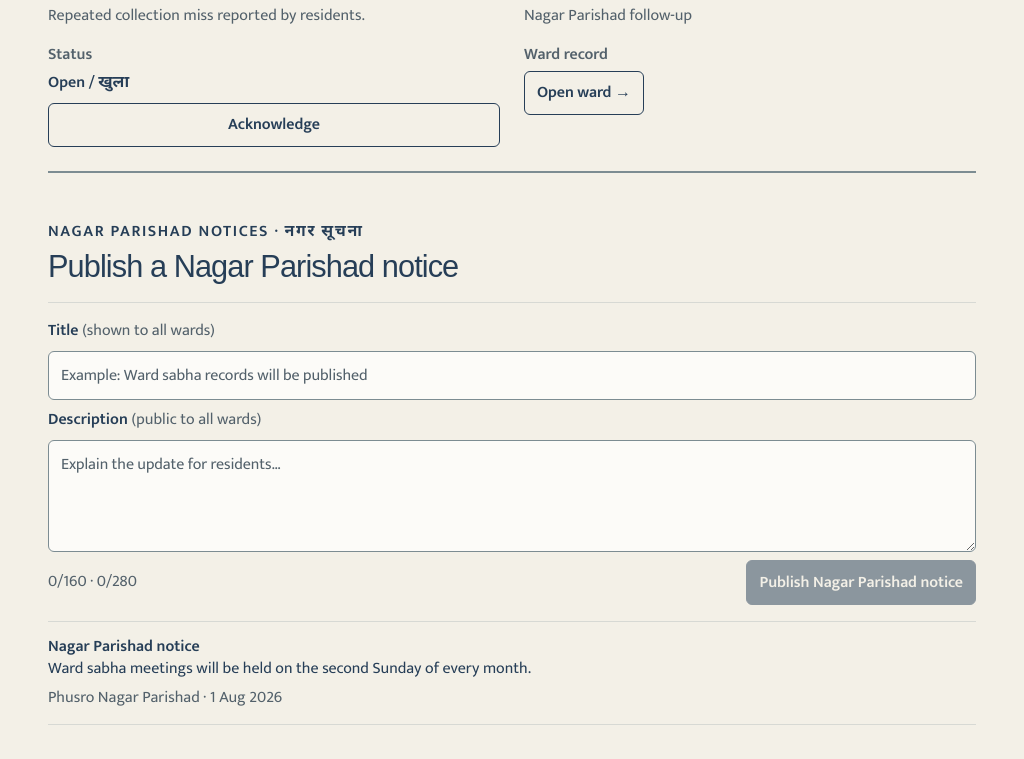
Test: corporation notice publication › preserves the draft and supports retry after a failed result
(page scrolled)
Type "Road maintenance" into the field labelled "Title (shown to all wards)" at (512, 375), box [48,351,976,400]
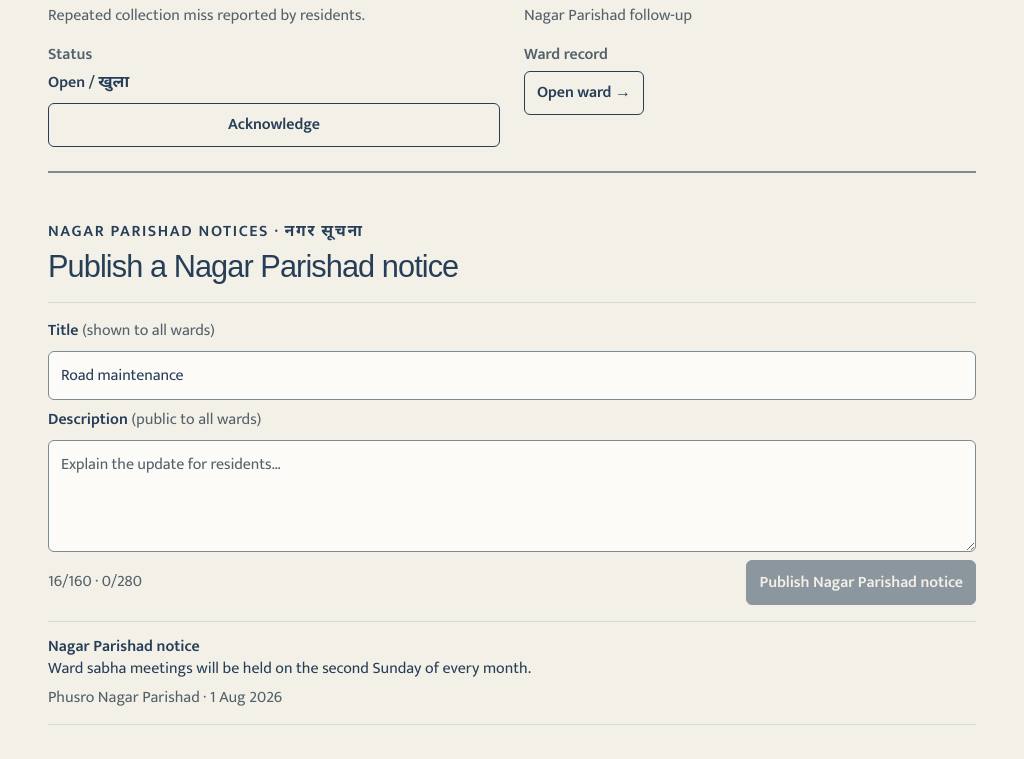
Type "Work begins tomorrow morning." into the text box labelled "Description (public to all wards)" at (512, 496), box [48,440,976,552]
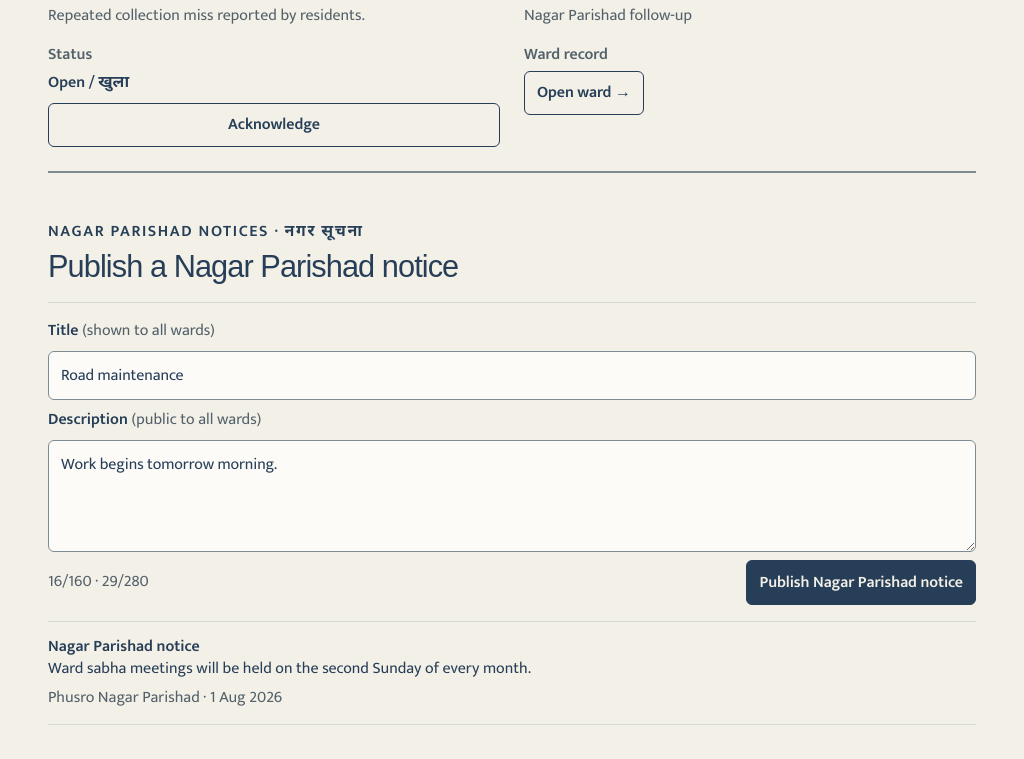
Submit the form, box [48,303,976,621]
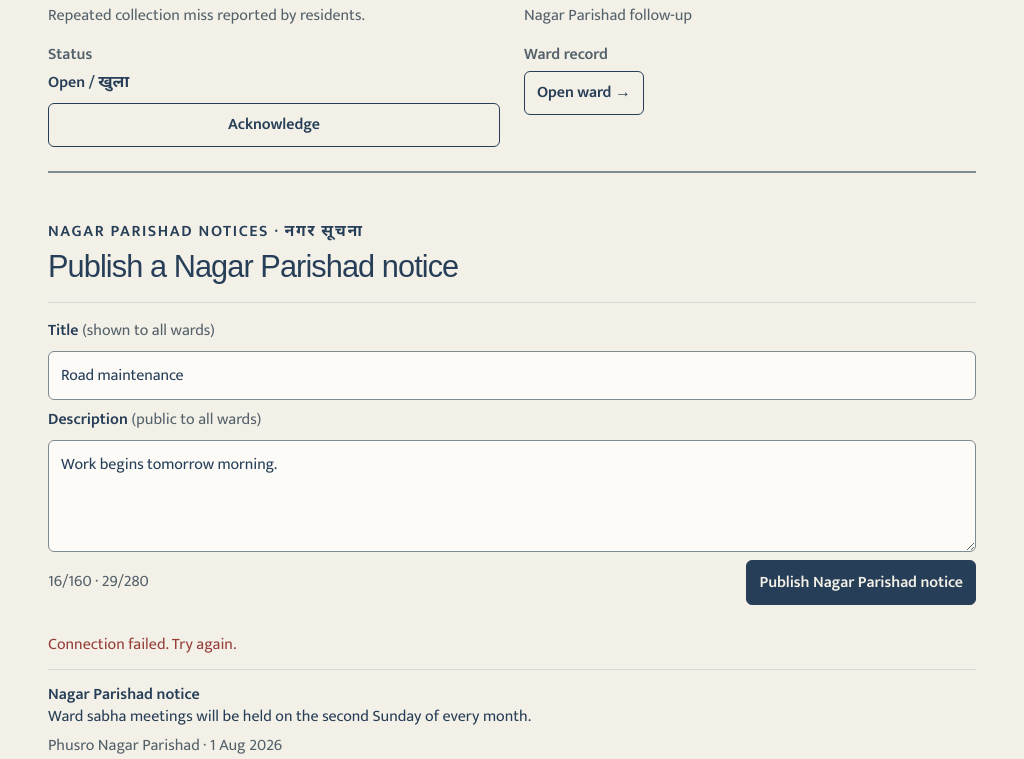
Expected: the text box labelled "Description (public to all wards)" is enabled, [48,440,976,552]
Expected: the message reads "Connection failed. Try again.", [48,631,236,658]
Submit the form, box [48,303,976,621]
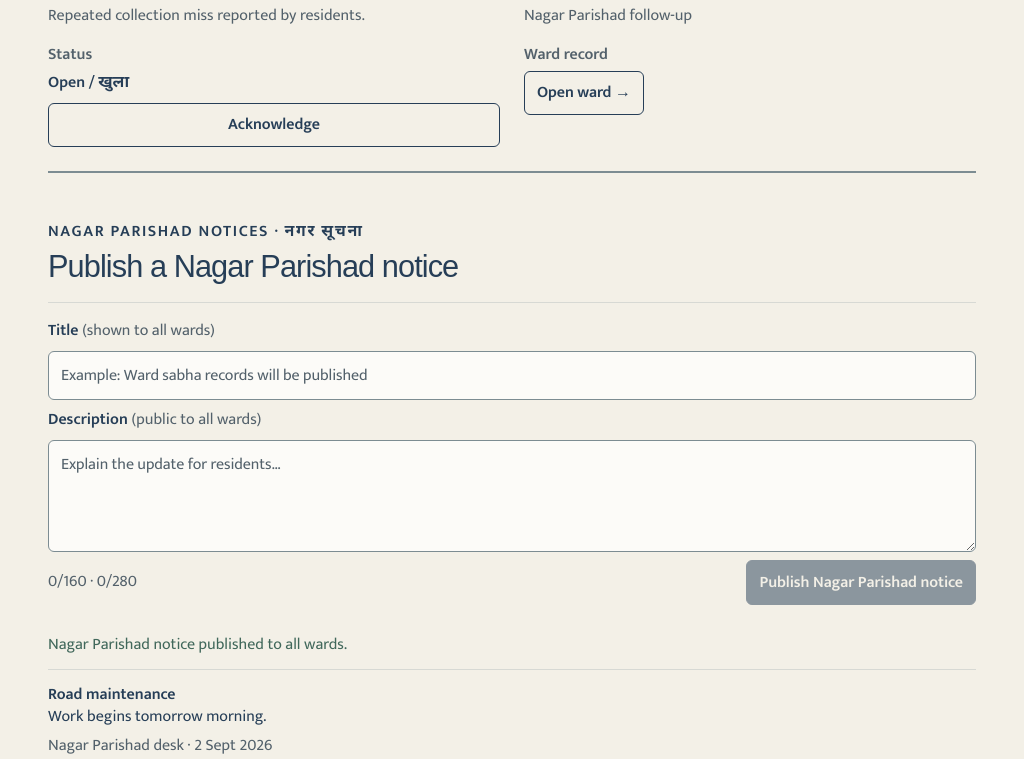
Expected: the text "Work begins tomorrow morning" is shown once, [48,681,266,730]
